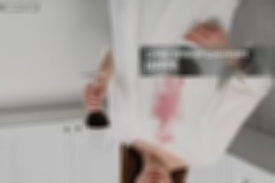wine: (153, 80, 188, 128), (153, 124, 175, 145)
